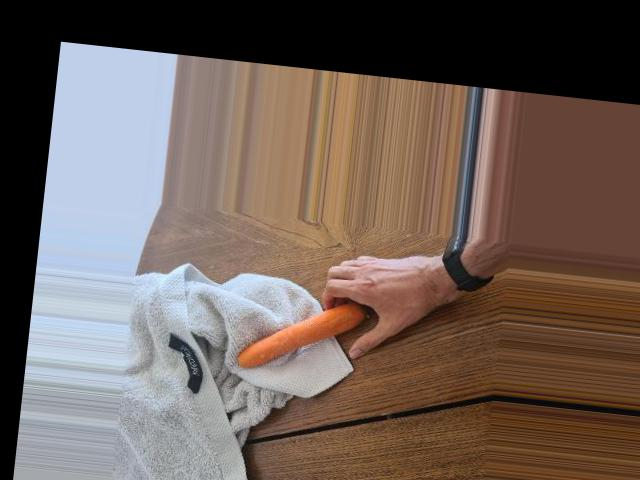carrot: (235, 288, 372, 382)
